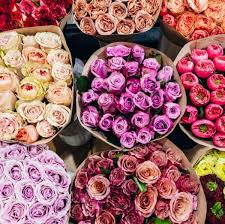lale: (168, 193, 197, 222), (49, 61, 80, 88), (135, 184, 157, 220), (45, 103, 74, 130), (18, 74, 45, 102), (0, 112, 22, 146), (87, 176, 112, 205), (25, 200, 53, 224), (134, 163, 162, 185), (0, 202, 28, 224), (109, 113, 130, 142), (44, 45, 68, 70), (77, 104, 98, 132), (150, 113, 174, 137), (91, 110, 114, 135), (35, 120, 61, 142), (0, 47, 26, 69), (33, 30, 63, 49), (21, 46, 48, 67), (105, 71, 129, 94), (19, 100, 46, 120), (157, 176, 180, 199), (133, 12, 157, 34), (33, 183, 55, 207), (162, 98, 183, 122), (0, 30, 20, 55), (118, 150, 139, 173), (49, 82, 74, 101), (163, 81, 184, 103), (24, 163, 46, 184), (51, 192, 71, 215), (104, 42, 131, 59), (110, 162, 126, 190), (95, 14, 116, 35), (138, 71, 161, 90), (98, 90, 117, 112), (13, 126, 36, 144), (133, 107, 151, 130), (116, 94, 140, 111), (81, 88, 101, 108), (125, 75, 145, 95), (9, 163, 28, 184), (117, 132, 139, 150), (106, 54, 128, 72), (88, 74, 108, 93), (72, 0, 92, 19), (136, 128, 155, 147), (20, 186, 39, 205), (111, 0, 129, 20), (155, 201, 173, 221), (149, 89, 168, 107), (154, 64, 173, 82), (88, 59, 109, 75), (73, 171, 89, 192), (81, 17, 96, 39), (1, 176, 16, 197), (131, 92, 153, 106), (117, 19, 135, 36), (19, 184, 36, 202), (125, 60, 141, 79), (94, 211, 116, 224), (132, 44, 147, 62), (141, 58, 159, 71), (23, 159, 30, 167)
